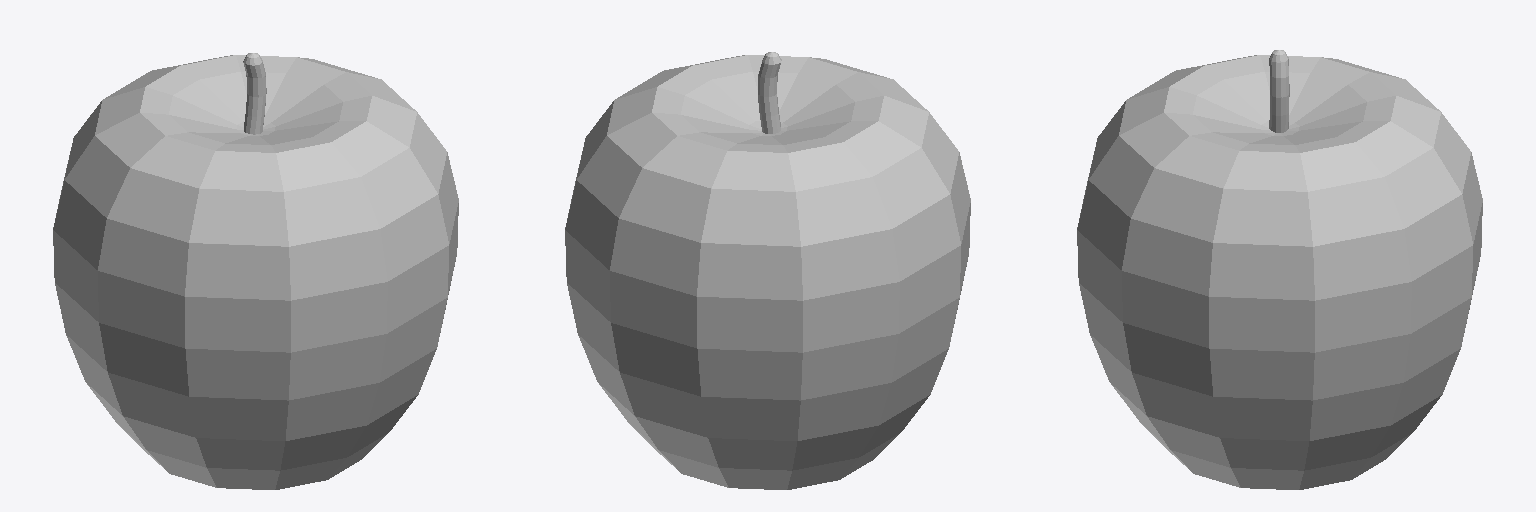
File: Manzana_Verde.obj
3 renders of one model, left to right at view 1: azimuth 30°, elevation 25°; view 2: azimuth 150°, elevation 25°; view 3: azimuth 270°, elevation 25°, orthographic.
Parts seen in each view (by area): view 1: Manzana_Verde.001_apple.001; view 2: Manzana_Verde.001_apple.001; view 3: Manzana_Verde.001_apple.001.
Boxes of the visible parts, x1=… form: Manzana_Verde.001_apple.001: x1=53, y1=53, x2=458, y2=489; Manzana_Verde.001_apple.001: x1=565, y1=52, x2=970, y2=489; Manzana_Verde.001_apple.001: x1=1077, y1=50, x2=1482, y2=489.
Bounding box in the file's own units: 0.115 × 0.1278 × 0.115.